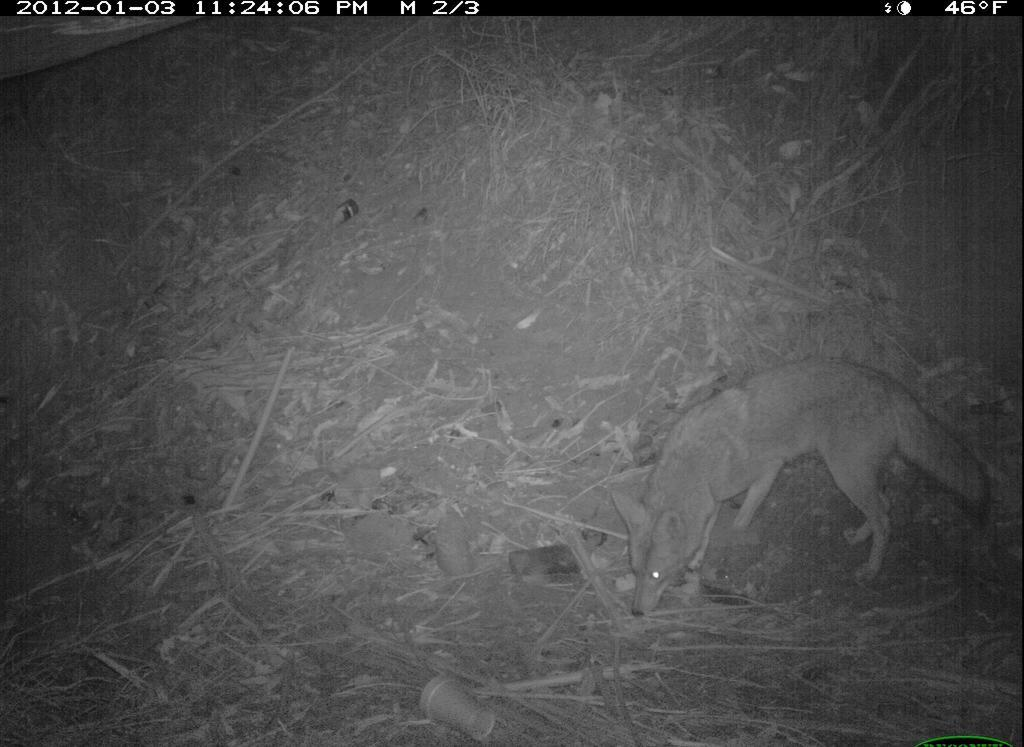coyote: (607, 350, 1005, 630)
